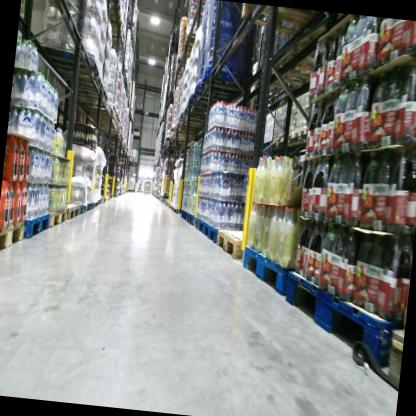pallet: (277, 264, 398, 375), (254, 37, 337, 99), (236, 4, 323, 46), (238, 245, 298, 301), (38, 43, 101, 77), (191, 76, 244, 108), (199, 61, 245, 95), (382, 320, 405, 387), (214, 225, 249, 262), (0, 218, 26, 261), (19, 209, 51, 241), (184, 91, 220, 116), (65, 84, 110, 101), (68, 71, 105, 91), (77, 100, 115, 116), (82, 106, 118, 122), (104, 4, 127, 28), (47, 207, 68, 229), (201, 222, 218, 246), (291, 126, 312, 145), (183, 27, 198, 53), (106, 35, 127, 51), (62, 202, 80, 220), (107, 23, 125, 41), (172, 58, 187, 78), (192, 216, 206, 236), (282, 131, 296, 147), (270, 135, 284, 151), (75, 201, 89, 215), (261, 138, 274, 152), (105, 0, 120, 11), (185, 211, 195, 226), (179, 207, 188, 221), (86, 200, 94, 212), (172, 205, 181, 213), (99, 196, 106, 204), (91, 199, 97, 208), (96, 198, 101, 205)
pallet_truck: (142, 177, 153, 196)
